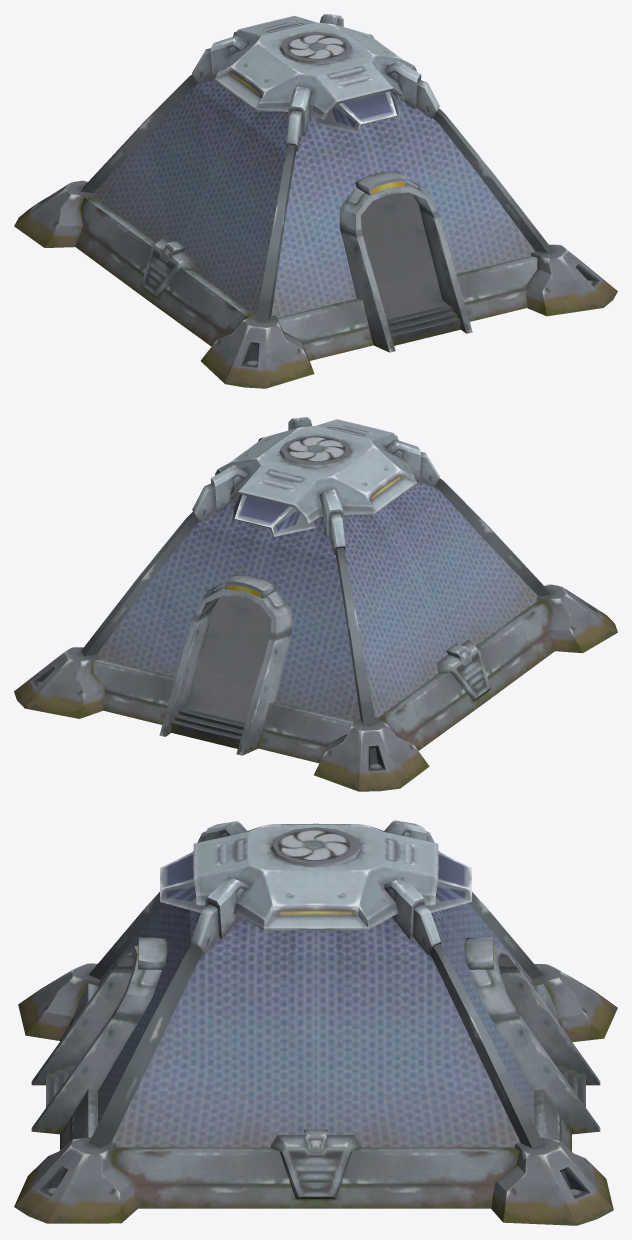
Rendered from Demo_zhangpeng.FBX.
3 views of the same model, one above another, from view 1: azimuth 30°, elevation 25°; view 2: azimuth 150°, elevation 25°; view 3: azimuth 270°, elevation 25° (orthographic). The views are drawn at different scales.
Visible parts, largest first — view 1: Demo_zhangpeng; view 2: Demo_zhangpeng; view 3: Demo_zhangpeng.
Boxes of the visible parts, x1,y1,x2,y2 form: Demo_zhangpeng: [14, 14, 617, 388]; Demo_zhangpeng: [14, 417, 617, 791]; Demo_zhangpeng: [14, 820, 617, 1225].
Size of the model in its own units: 14.46 by 7.48 by 15.57.
